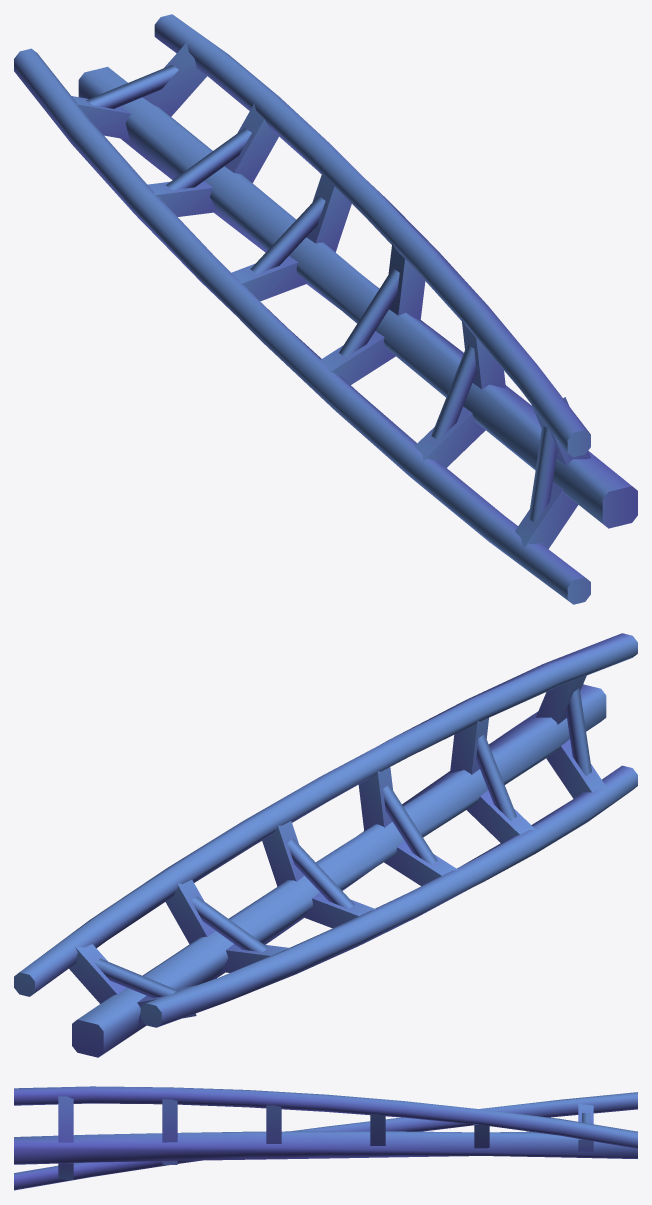
File: kenney-coaster-coaster-steel-straight-skew-right-side.glb
3 views of the same model, one above another, from view 1: azimuth 30°, elevation 25°; view 2: azimuth 150°, elevation 25°; view 3: azimuth 270°, elevation 25° (orthographic). The views are drawn at different scales.
Parts seen in each view (by area): view 1: coaster-steel-straight-skew-right-side; view 2: coaster-steel-straight-skew-right-side; view 3: coaster-steel-straight-skew-right-side.
Part boxes in pixels (bbox=[...]): coaster-steel-straight-skew-right-side: bbox=[14, 14, 637, 604]; coaster-steel-straight-skew-right-side: bbox=[14, 633, 637, 1057]; coaster-steel-straight-skew-right-side: bbox=[14, 1086, 637, 1190].
Bounding box in the file's own units: 0.7945 × 0.7945 × 4.
Materials: 1 (1 with a texture image).
